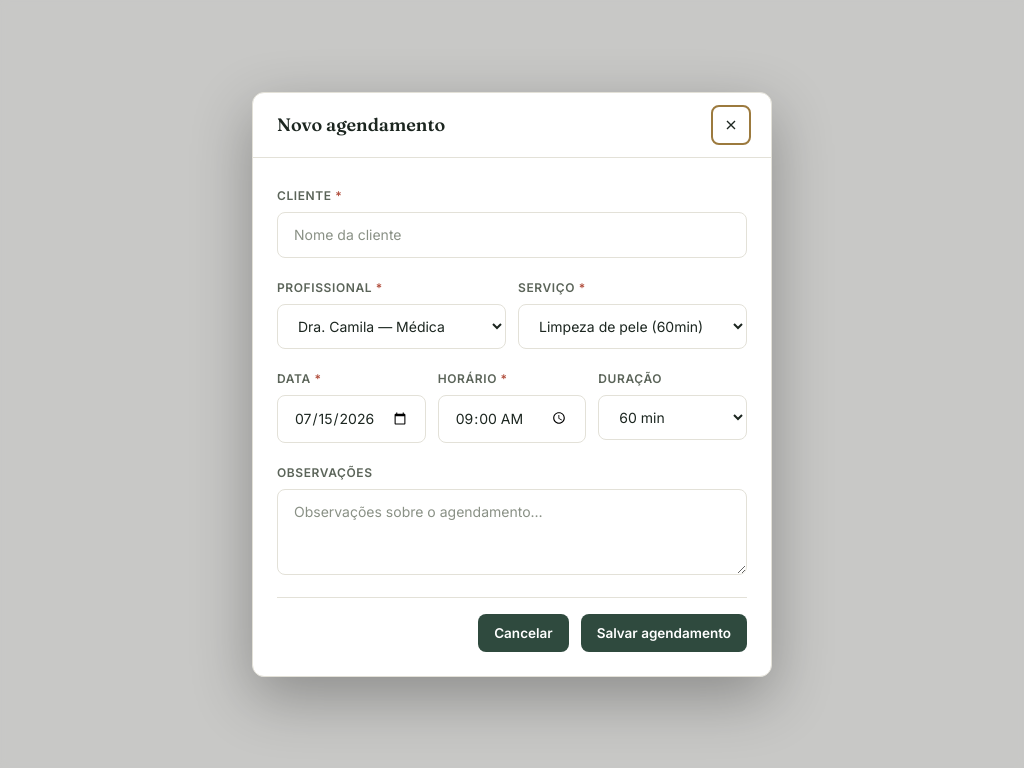
it: AgendamentoModal › deve criar agendamento com observações
Type "Maria Silva" into the field with placeholder "Nome da cliente".
click(512, 234); type("Maria Silva")  # box [277, 212, 747, 258]
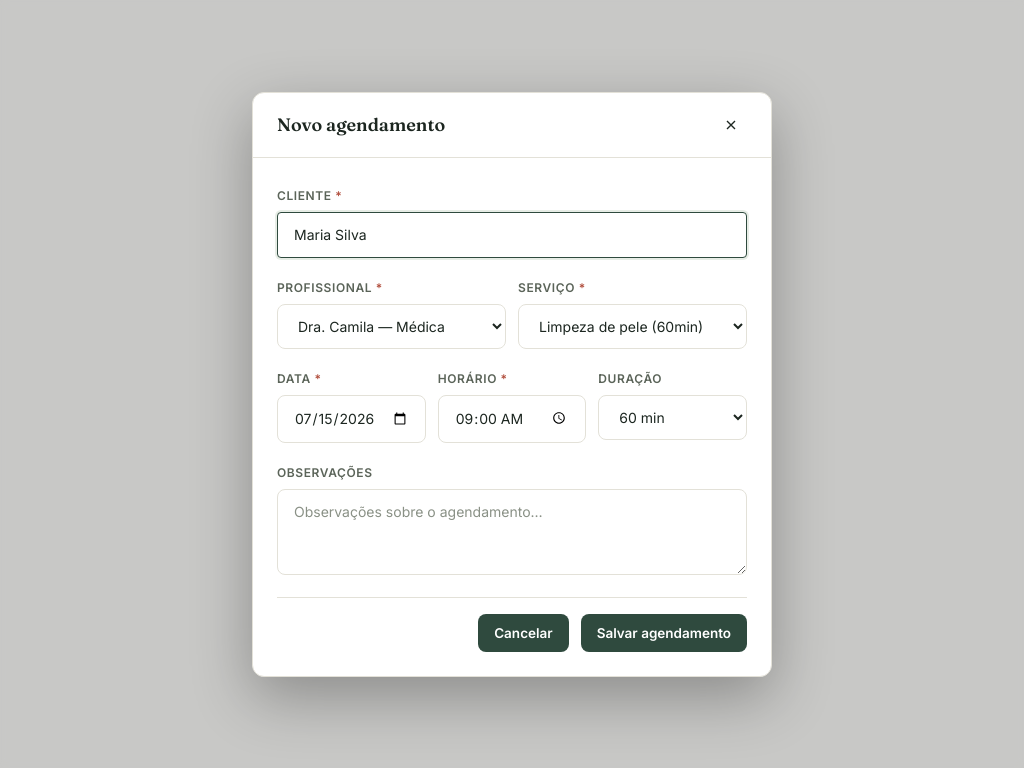
Select "Fernanda — Esteticista" in the dropdown below "Profissional" at (392, 326), box [277, 304, 506, 348]
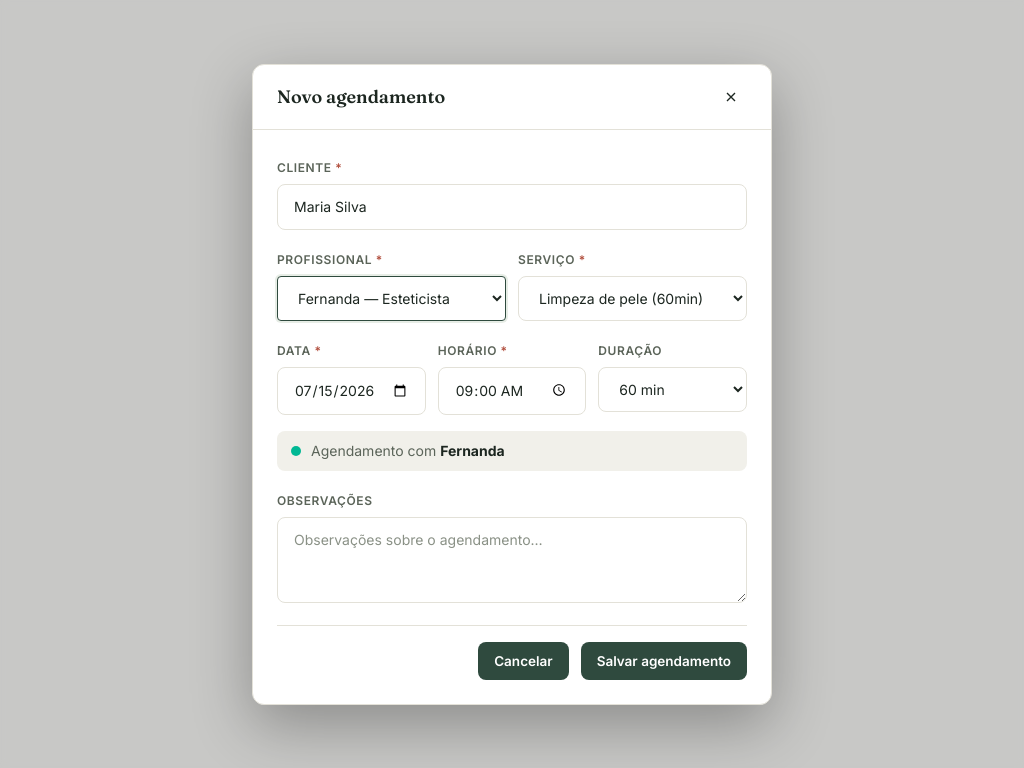
Select "Toxina botulínica (60min)" in the dropdown below "Serviço" at (632, 298), box [518, 276, 747, 320]
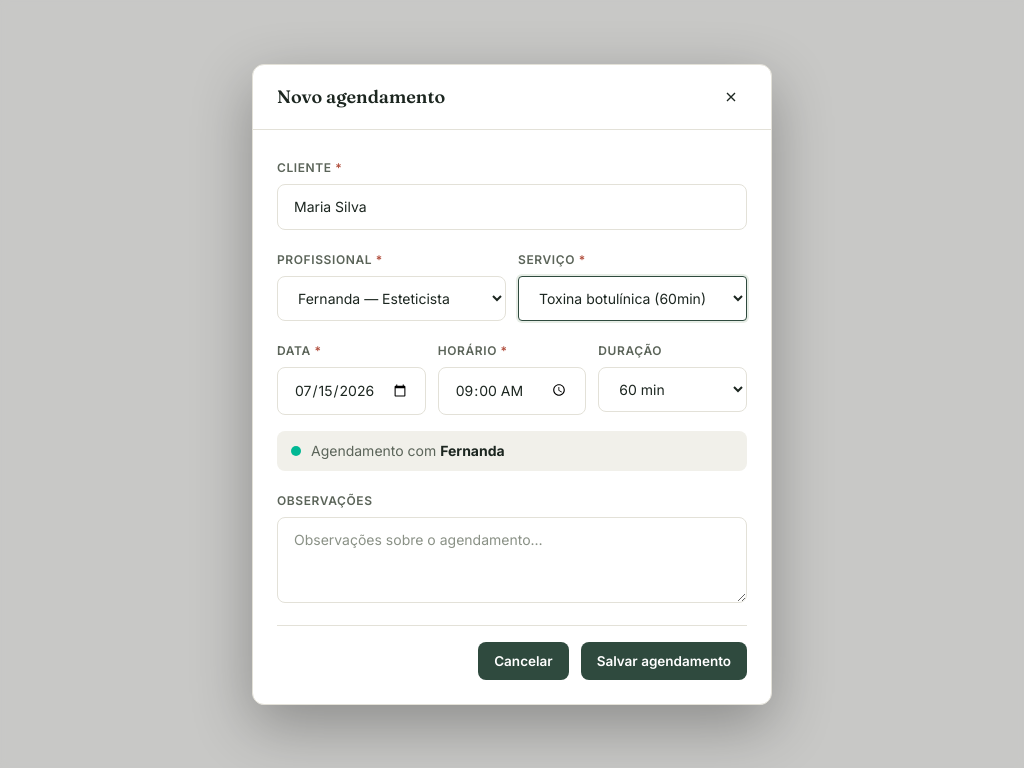
Type "Cliente prefere horário pela manhã" into the text box with placeholder "Observações sobre o agendamento…".
click(512, 560); type("Cliente prefere horário pela manhã")  # box [277, 516, 747, 602]
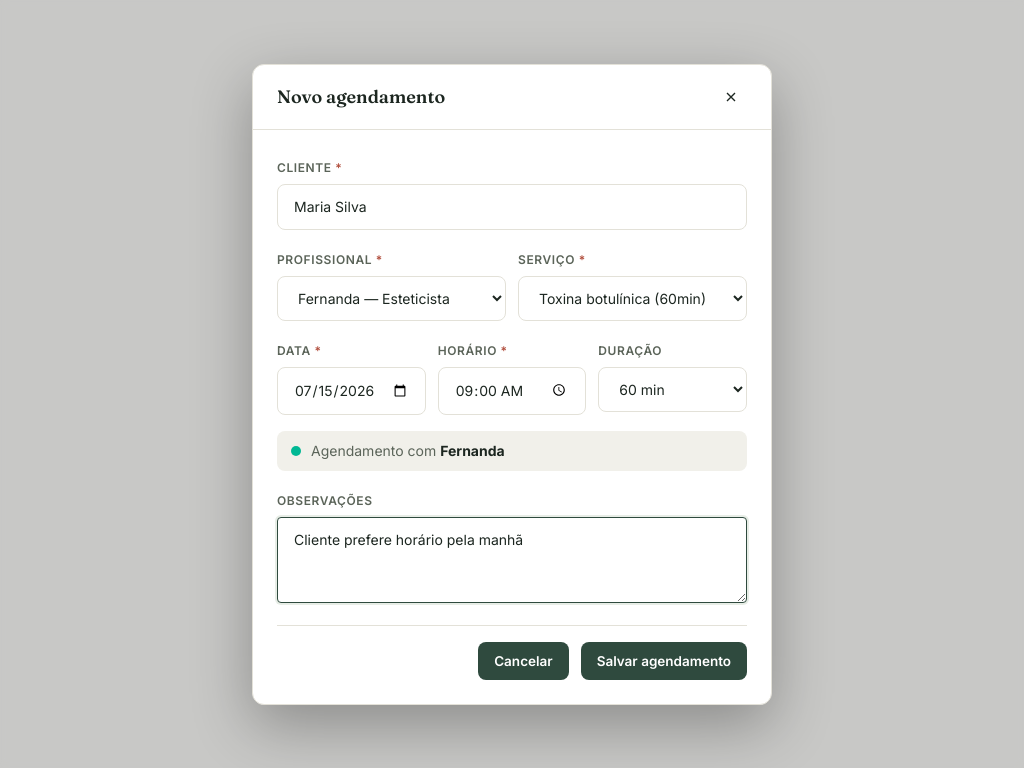
Click the button "Salvar agendamento".
click(664, 660)  # box [581, 642, 747, 680]
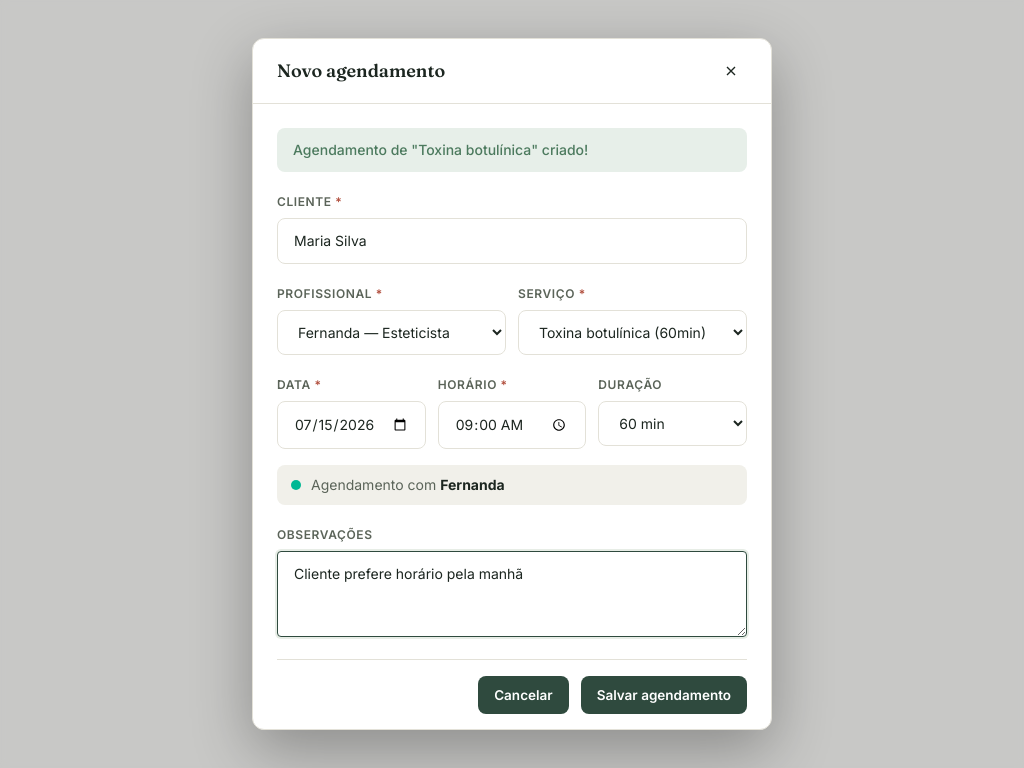
expect the text "Agendamento de \"Toxina botulínica\" criado!" is shown: met, box [277, 128, 747, 172]
